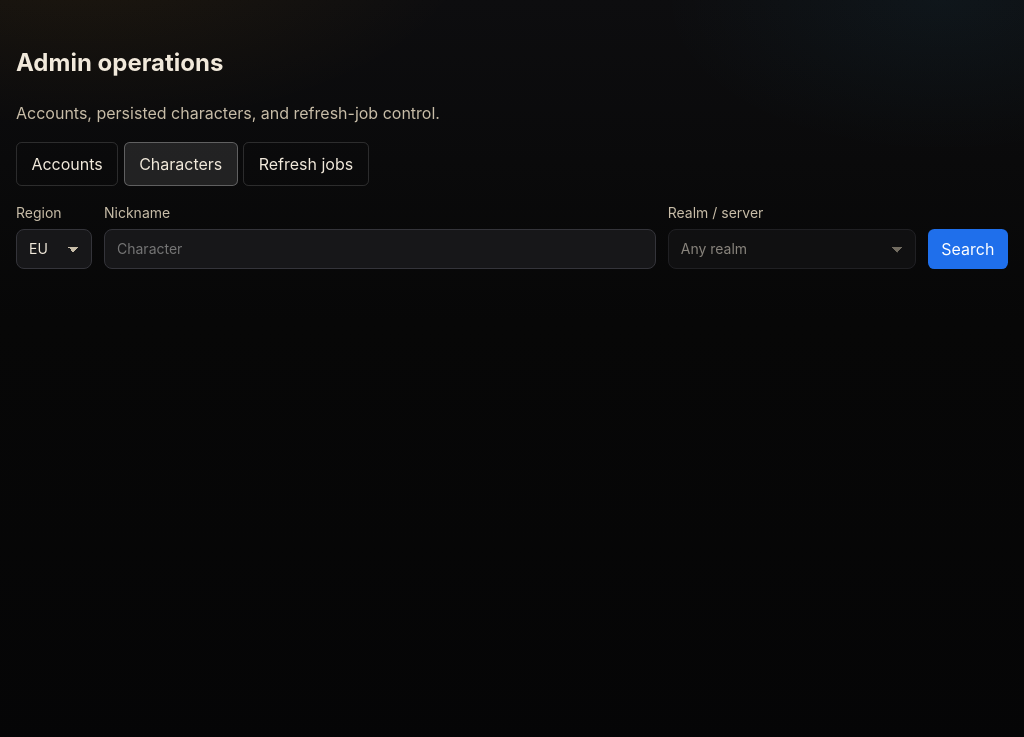
Scenario: AdminUsersPage UI consistency › updates the job row immediately after cancel
Click the button with test id "tab-refresh-jobs".
click(306, 164)  # box [243,142,369,186]
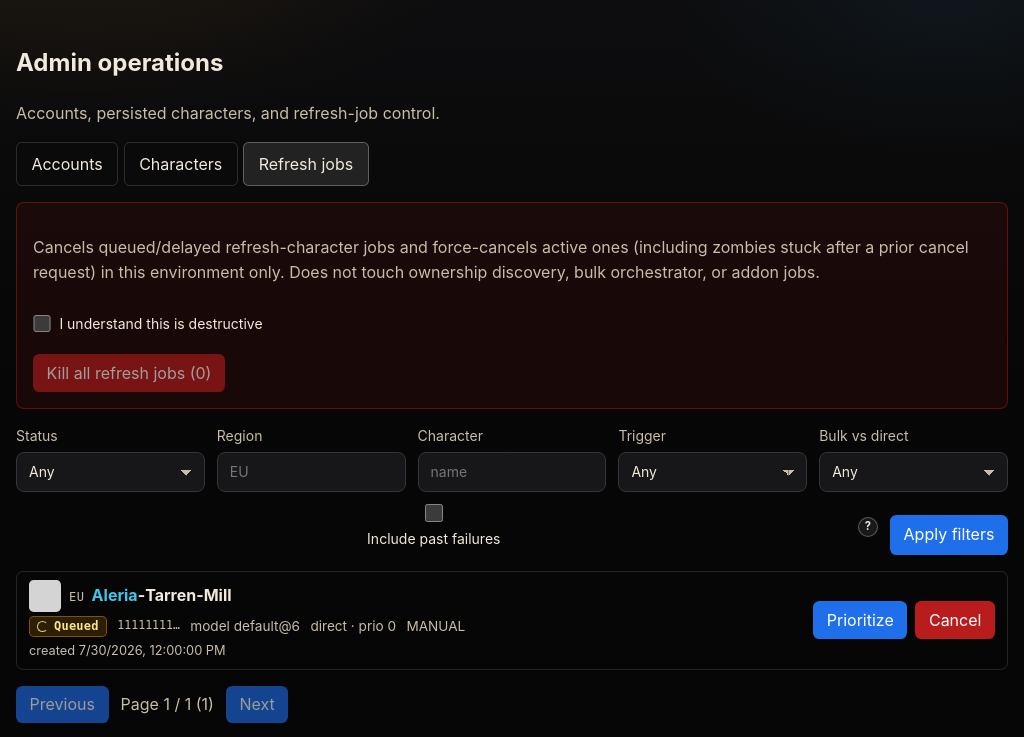
expect the list item with test id "job-row" is shown: met, box [16,571,1008,670]
expect the list item with test id "job-row" shows "Queued": met, box [54,619,99,633]
expect the button "Cancel" is shown: met
Click the button "Cancel".
click(955, 620)  # box [915,602,995,639]
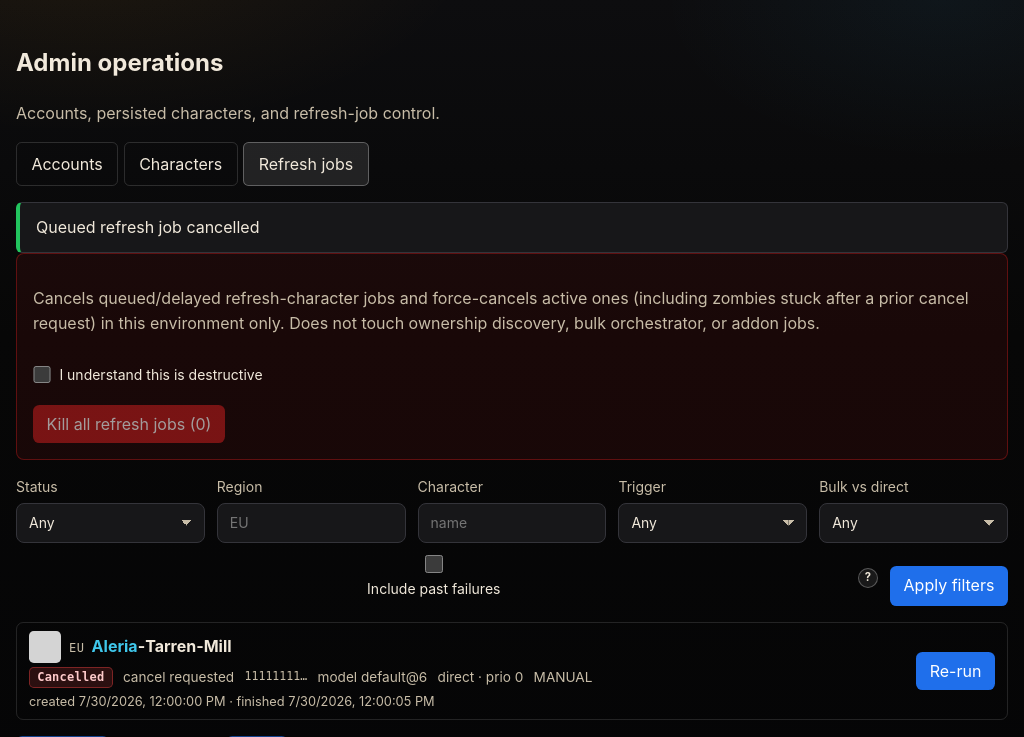
expect the list item with test id "job-row" shows "Cancelled": met, box [37,670,104,684]
